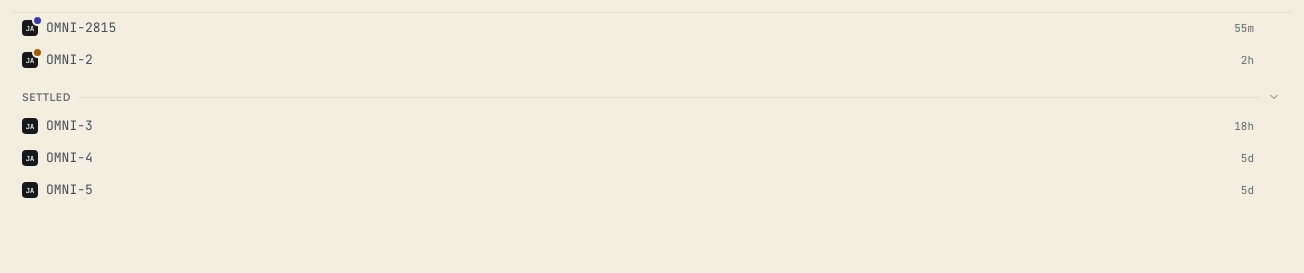
Test: the session menu › archives a row into a folded Archived group at the very bottom, and unarchives it
Right-click the button "JA OMNI-2815 55m" at (81, 27), box x1=12 y1=13 x2=1266 y2=43
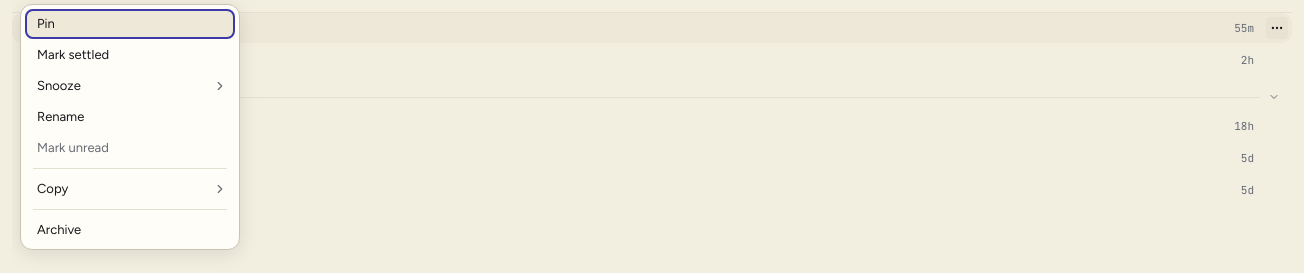
Click the menu item "Archive" at (130, 230), box x1=25 y1=215 x2=235 y2=245
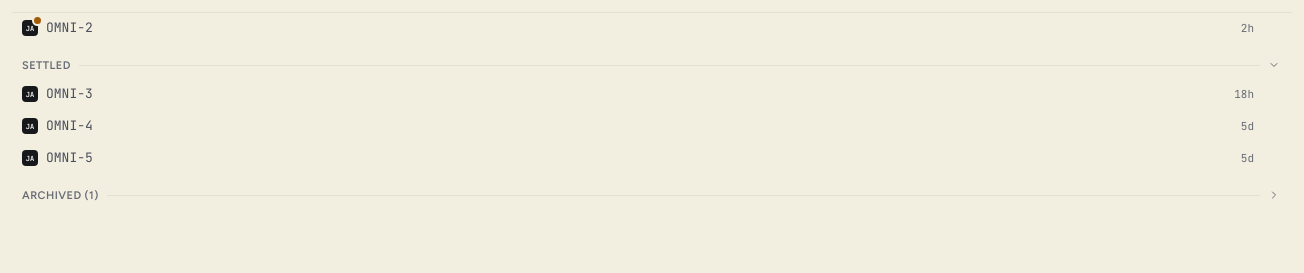
Click the button "Archived (1)" at (60, 195), box x1=12 y1=183 x2=1292 y2=207
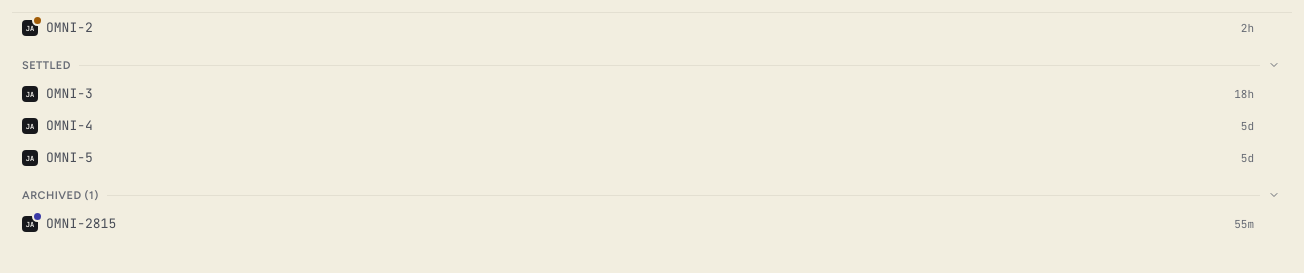
Right-click the button "JA OMNI-2815 55m" at (81, 223), box x1=12 y1=209 x2=1266 y2=239
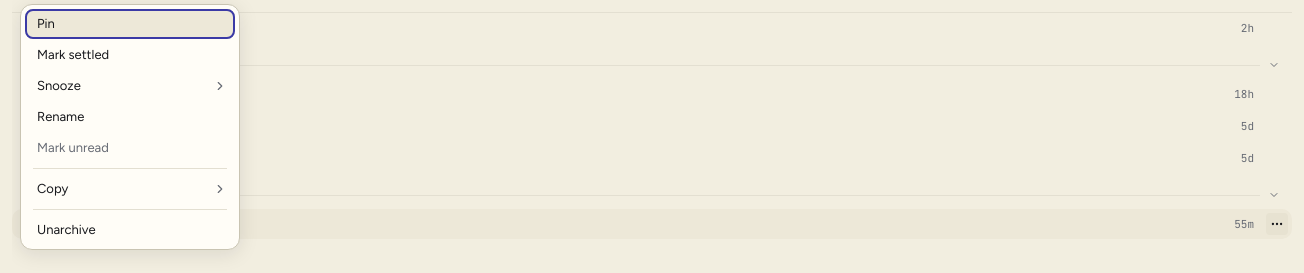
Click the menu item "Unarchive" at (130, 230), box x1=25 y1=215 x2=235 y2=245
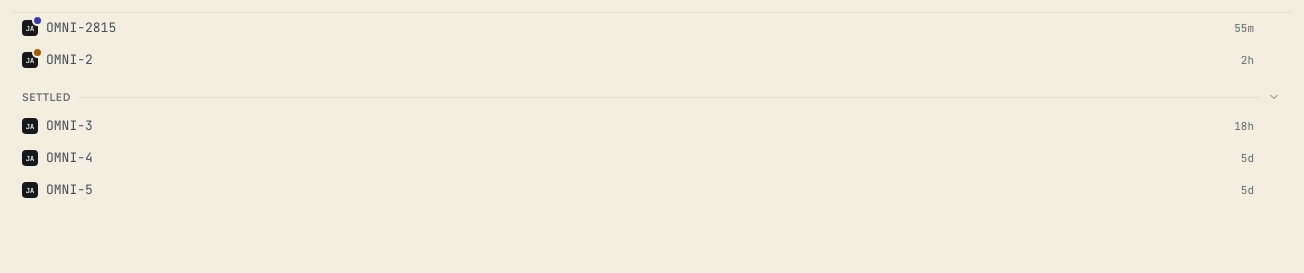
Expected: the button "Archived" is gone
